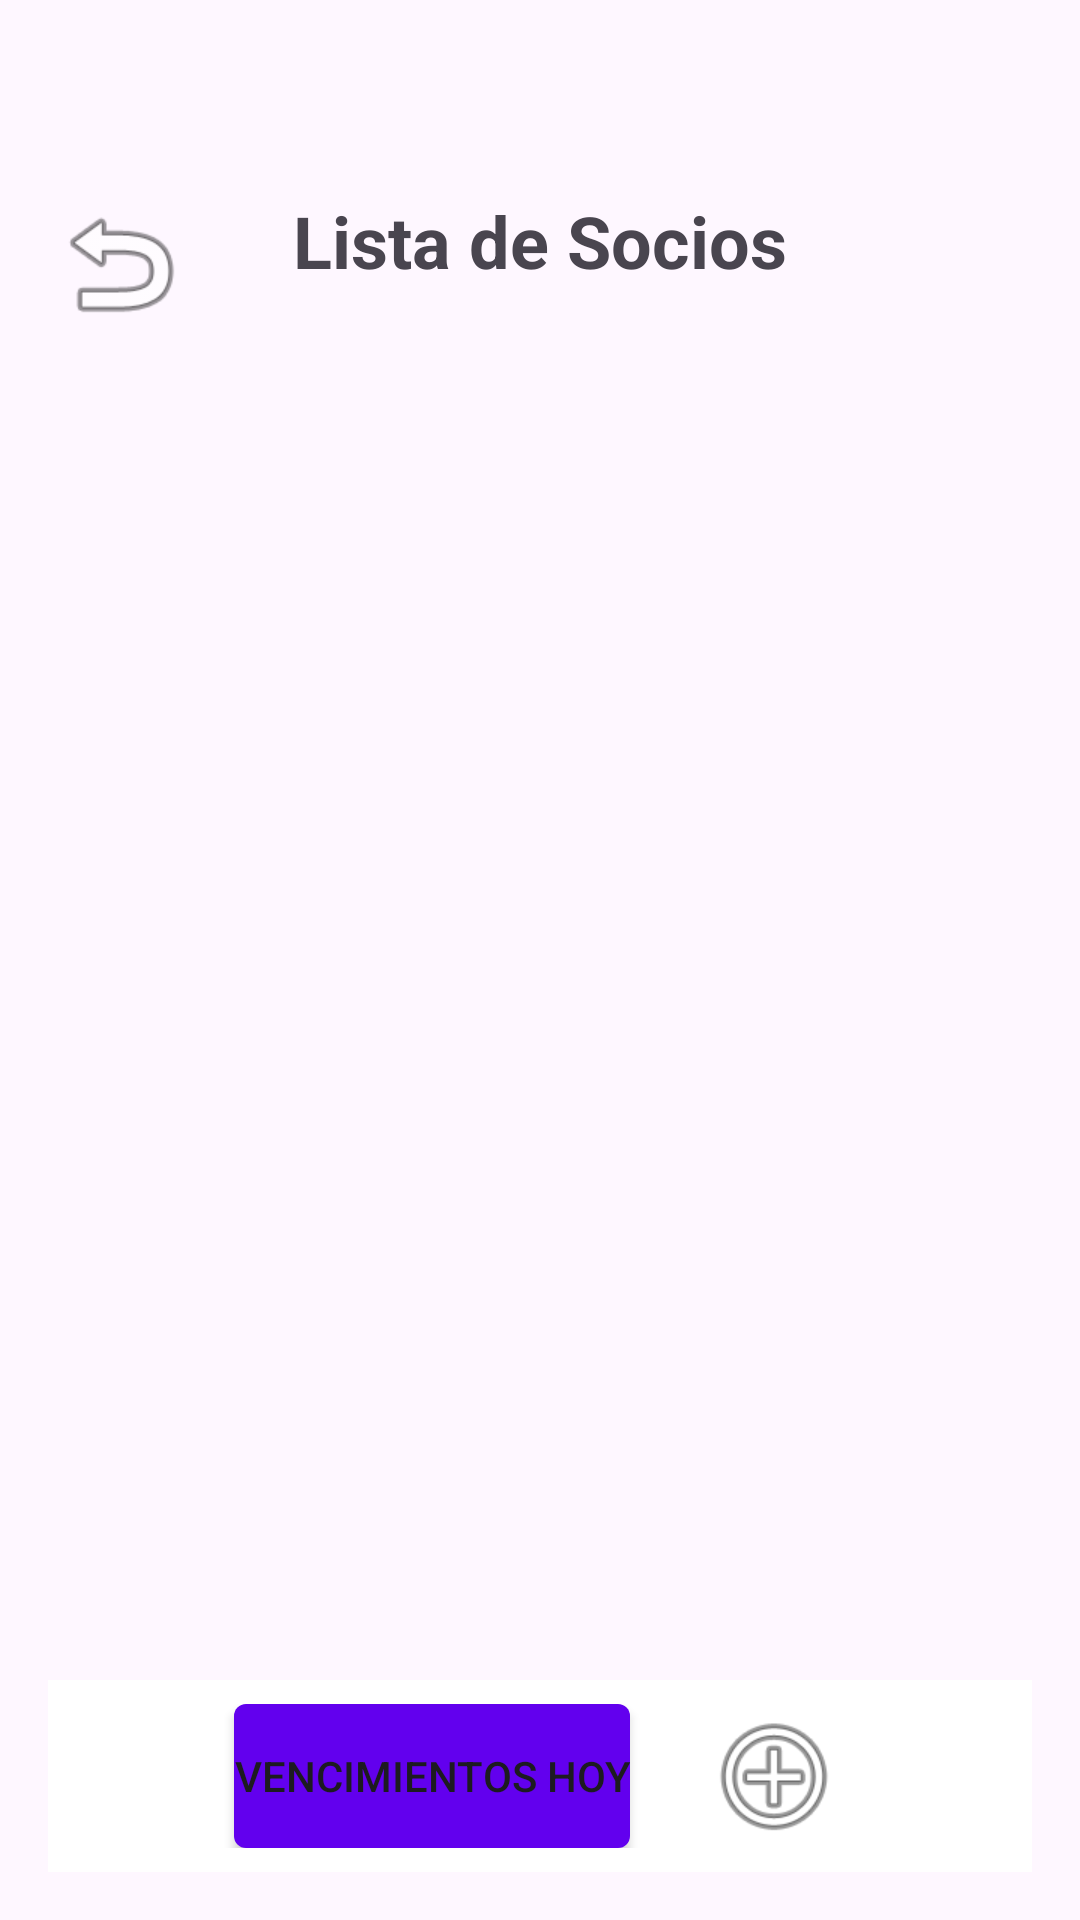

Where to tap for icons on this 1080×1920 app screen, as (x,y):
Agregar: (774,1776)
Volver: (122,265)
